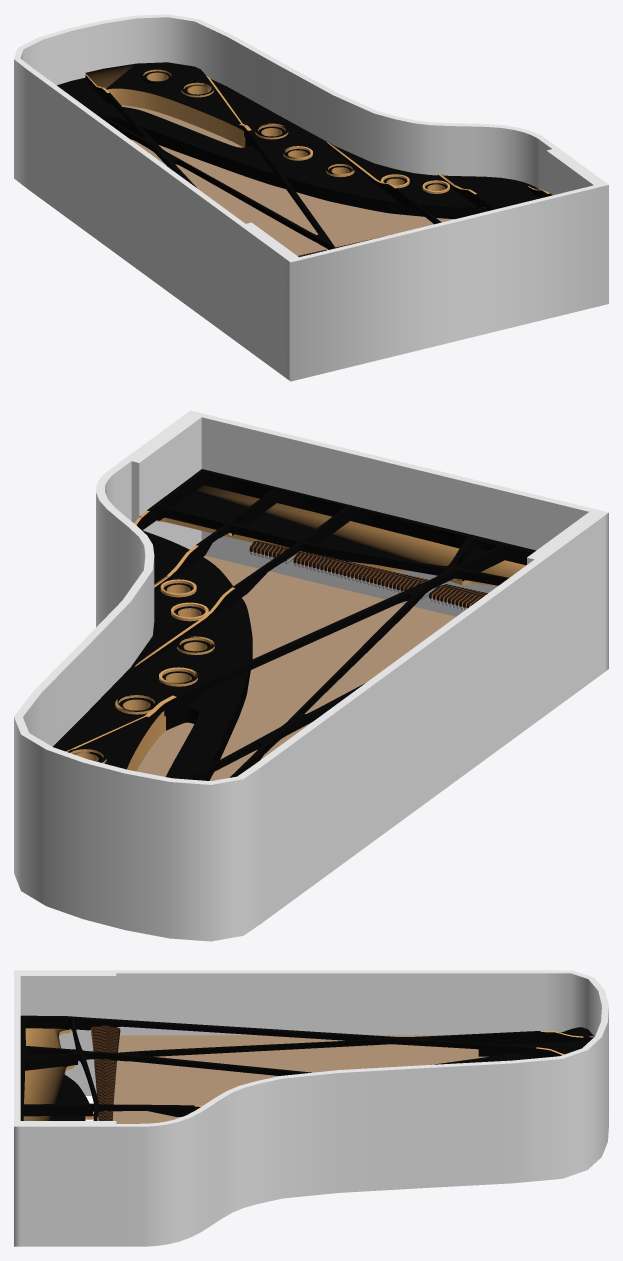
The model's file is CenarioInicial2.fbx.
The picture shows the model from 3 angles, top to bottom: view 1: azimuth 30°, elevation 25°; view 2: azimuth 150°, elevation 25°; view 3: azimuth 270°, elevation 25°; orthographic projection. The views are drawn at different scales.
Visible parts, largest first — view 1: Piano, Estrutura, Chao, Estrutura2; view 2: Piano, Estrutura, Estrutura2, Chao; view 3: Piano, Chao, Estrutura2, Estrutura.
Boxes of the visible parts, x1,y1,x2,y2 form: Piano: (14,14,608,381); Estrutura: (57,62,539,218); Chao: (112,105,454,255); Estrutura2: (79,74,552,249); Piano: (14,410,608,941); Estrutura: (53,485,525,780); Estrutura2: (66,469,535,780); Chao: (136,555,455,780); Piano: (14,970,608,1246); Chao: (113,1035,488,1123); Estrutura2: (20,1015,593,1120); Estrutura: (23,1027,594,1120).
Size of the model in its own units: 55.04 by 19.69 by 88.49.
